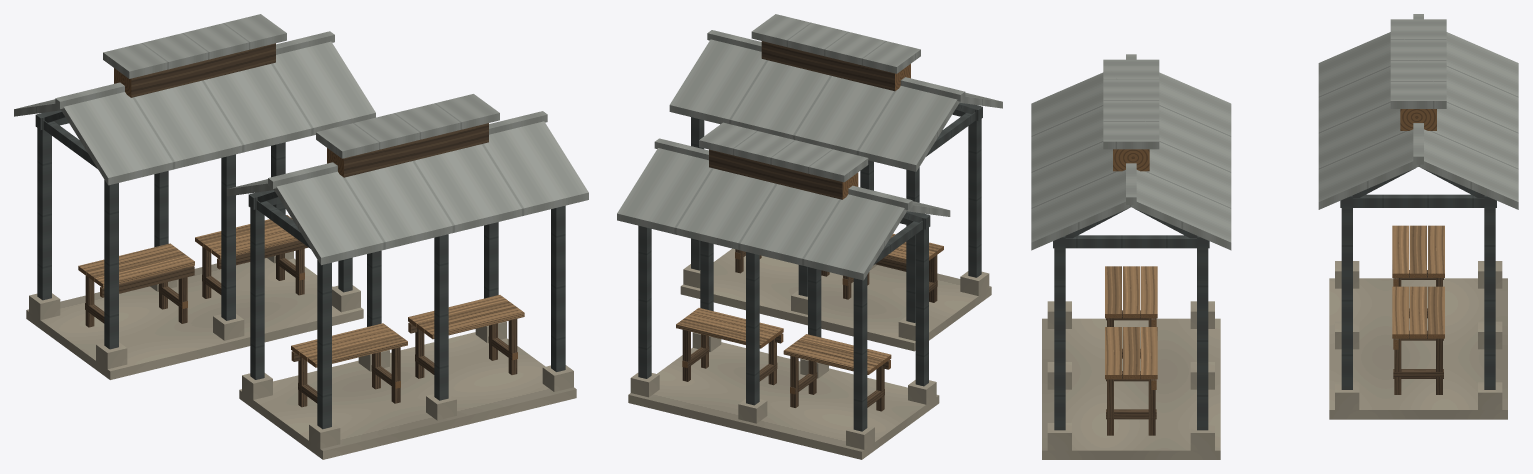
3 renders of one model, left to right at view 1: azimuth 30°, elevation 25°; view 2: azimuth 150°, elevation 25°; view 3: azimuth 270°, elevation 25°, orthographic. The views are drawn at different scales.
Parts seen in each view (by area): view 1: libreville; view 2: libreville; view 3: libreville.
Part boxes in pixels (x1,y1,x2,y2): libreville: (14, 14, 588, 459); libreville: (617, 14, 1002, 459); libreville: (1031, 14, 1518, 459).
Bounding box in the file's own units: 3.35 × 2.5 × 3.76.
1 material, 1 textured.
